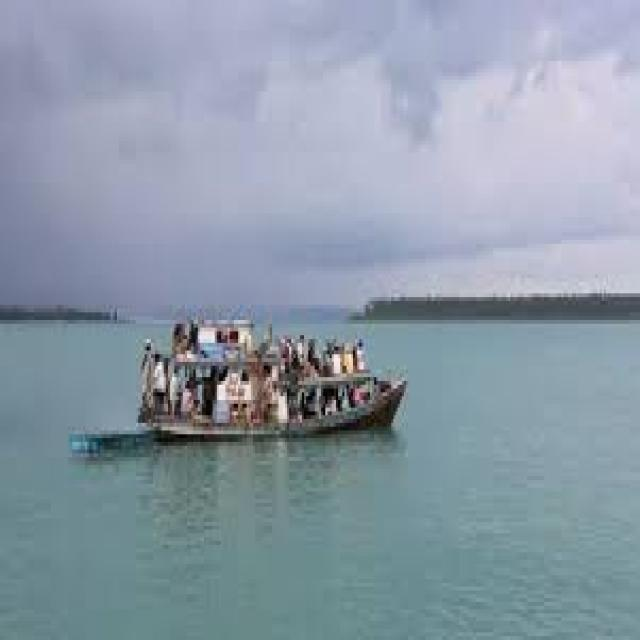houseboat: (130, 287, 405, 450)
